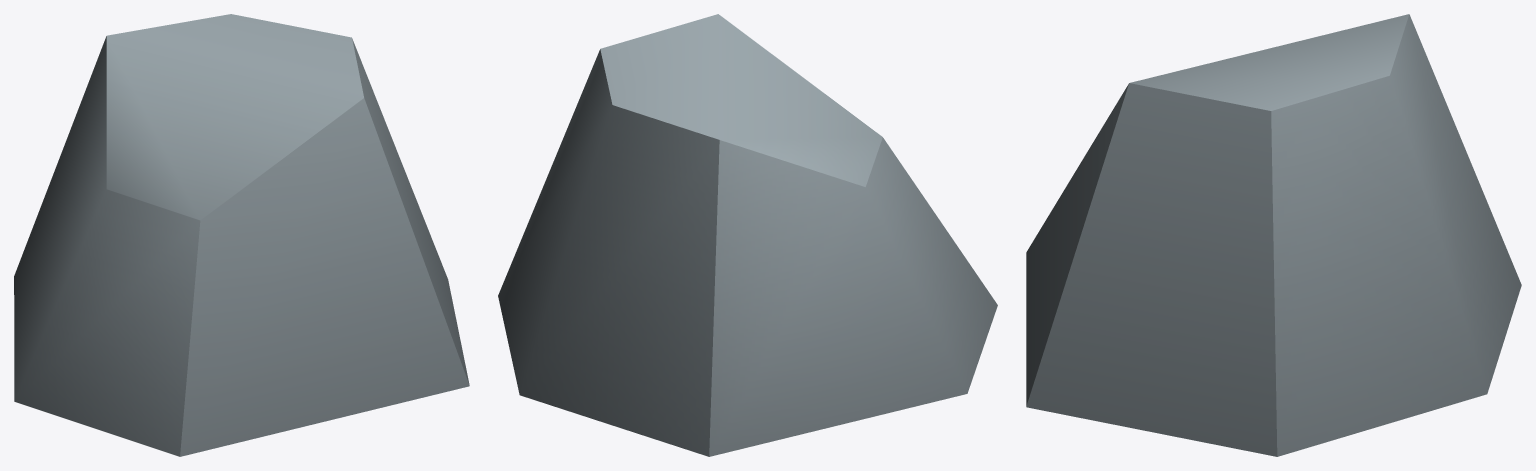
File: rock_single_D.gltf
The picture shows the model from 3 angles, left to right: view 1: azimuth 30°, elevation 25°; view 2: azimuth 150°, elevation 25°; view 3: azimuth 270°, elevation 25°; orthographic projection. The views are drawn at different scales.
Visible parts, largest first — view 1: rock_single_D; view 2: rock_single_D; view 3: rock_single_D.
Part boxes in pixels (x1,y1,x2,y2): rock_single_D: (14, 14, 469, 456); rock_single_D: (498, 14, 997, 456); rock_single_D: (1026, 14, 1521, 456).
Bounding box in the file's own units: 0.2866 × 0.1629 × 0.2497.
Materials: 1 (1 with a texture image).
